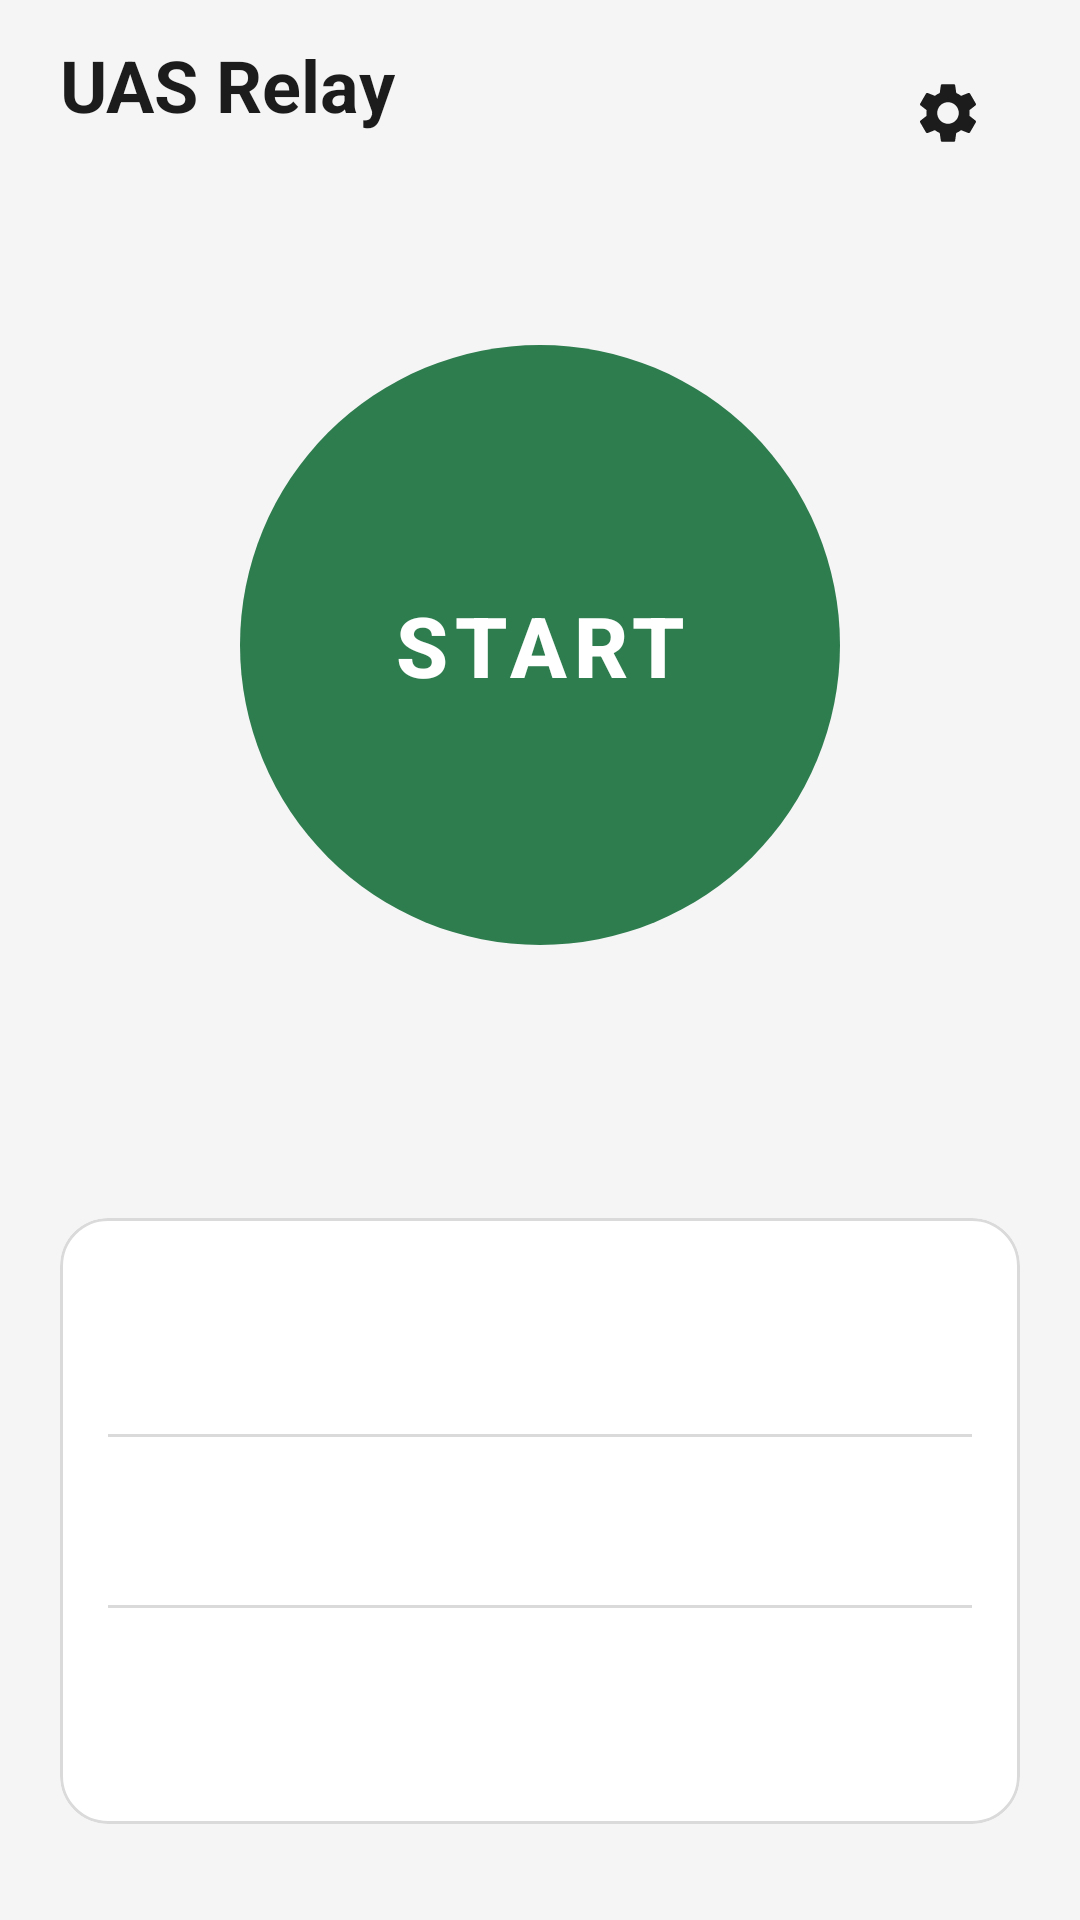

Point at icon controls on the screen. Image size 1080 x 1920, points as (x,y).
Settings: (948,113)
